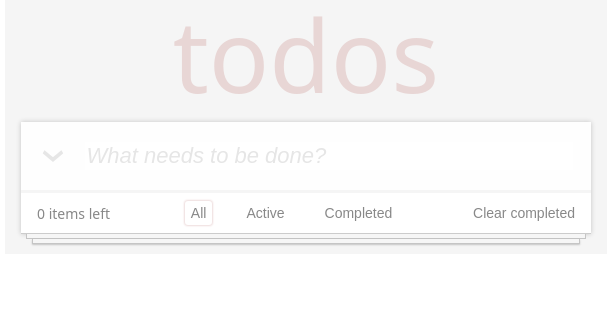
Test: App Component › adds new task correctly
Type "New Task" into the field with placeholder "What needs to be done?" at (329, 156), box top-left (84, 142), bottom-right (573, 170)
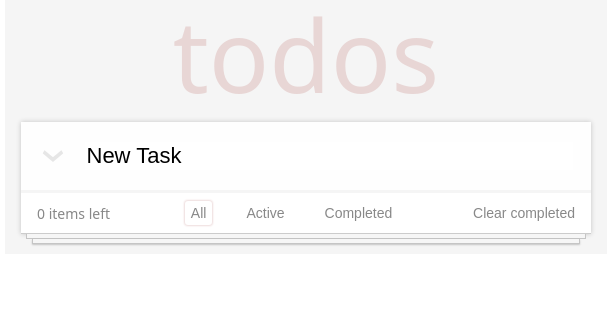
Submit the form with placeholder "What needs to be done?", box top-left (21, 122), bottom-right (591, 190)
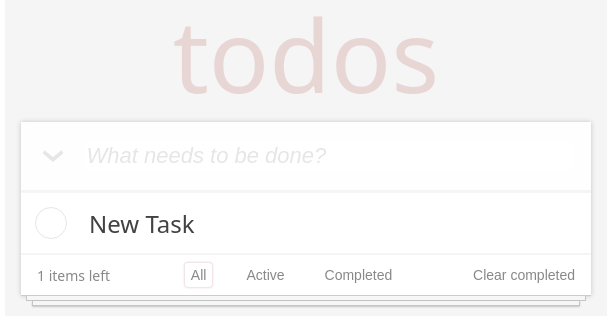
Check: the text "New Task" is shown, box top-left (89, 206), bottom-right (195, 240)
Check: the text "1 items left" is shown, box top-left (37, 266), bottom-right (110, 284)
